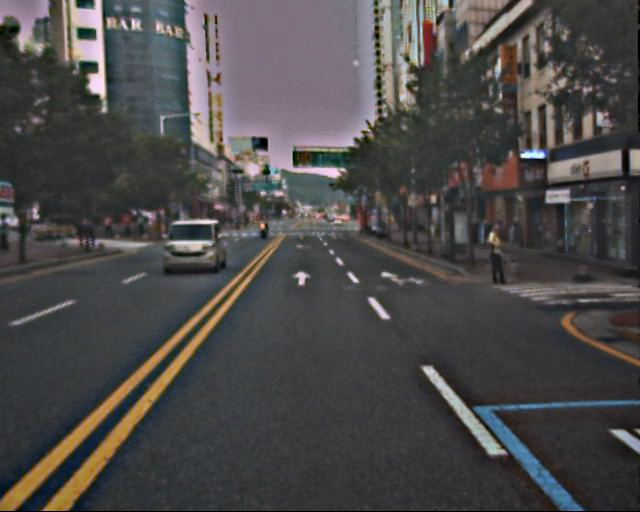person: (484, 221, 512, 291)
